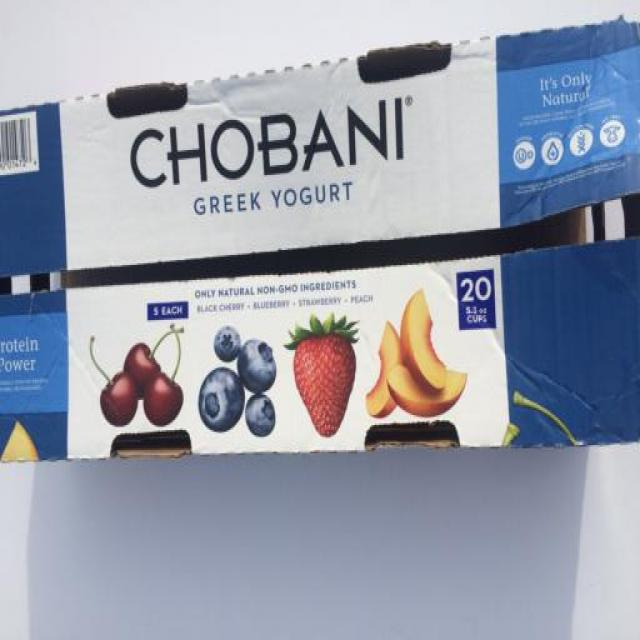cardboard: (4, 22, 636, 600)
